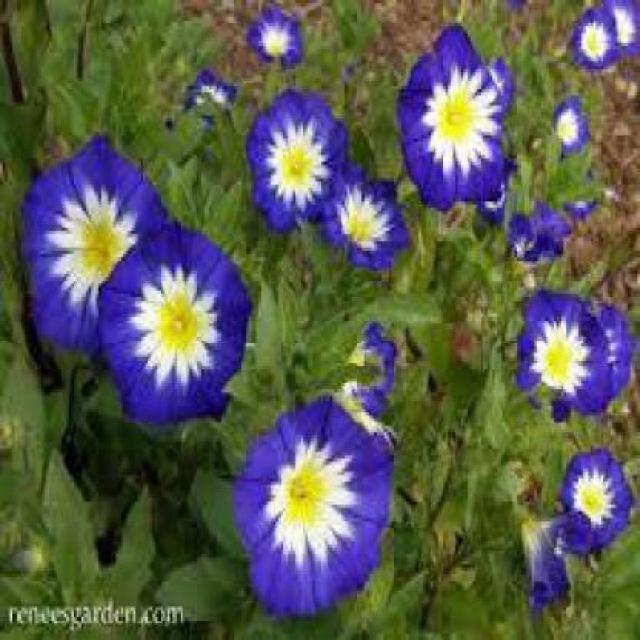flower: (78, 229, 276, 434), (23, 130, 179, 358), (238, 409, 398, 614), (382, 29, 512, 208), (244, 94, 354, 226), (518, 278, 612, 411), (327, 160, 415, 286), (333, 320, 402, 455), (562, 430, 635, 539), (519, 514, 581, 614), (498, 214, 580, 268), (242, 16, 316, 73), (182, 59, 244, 122), (548, 105, 588, 148)
